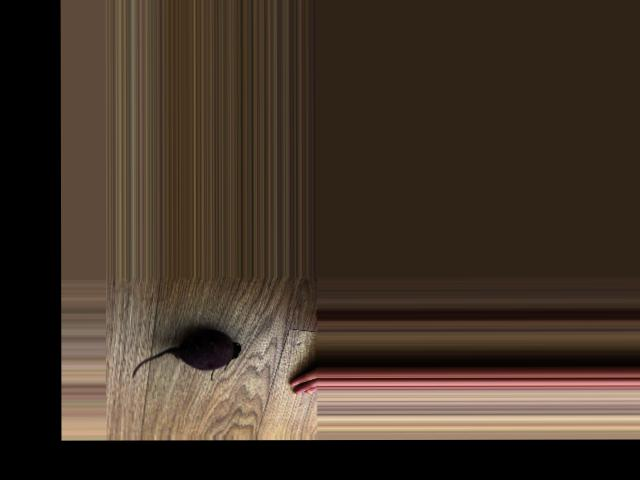beet: (131, 330, 240, 380)
